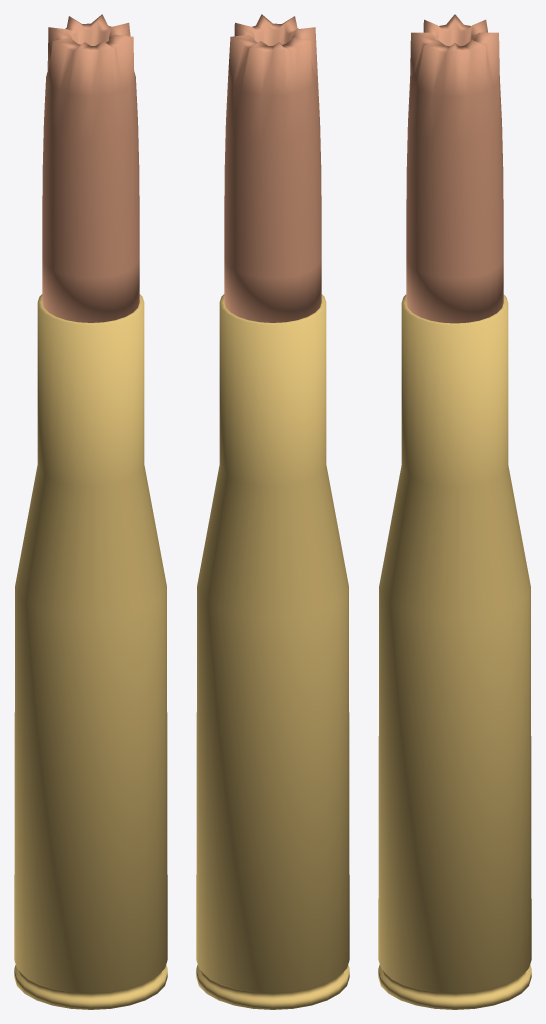
The model's file is 50bmg_fl.glb.
3 views of the same model, side by side, from view 1: azimuth 30°, elevation 25°; view 2: azimuth 150°, elevation 25°; view 3: azimuth 270°, elevation 25° (orthographic).
Visible parts, largest first — view 1: vaina, bala_flor; view 2: vaina, bala_flor; view 3: vaina, bala_flor.
Part boxes in pixels (x1,y1,x2,y2): vaina: (14, 294, 167, 1009); bala_flor: (42, 14, 139, 322); vaina: (196, 294, 349, 1009); bala_flor: (224, 14, 321, 322); vaina: (378, 294, 531, 1009); bala_flor: (406, 14, 503, 323).
Bounding box in the file's own units: 0.0204 × 0.1388 × 0.0204.
